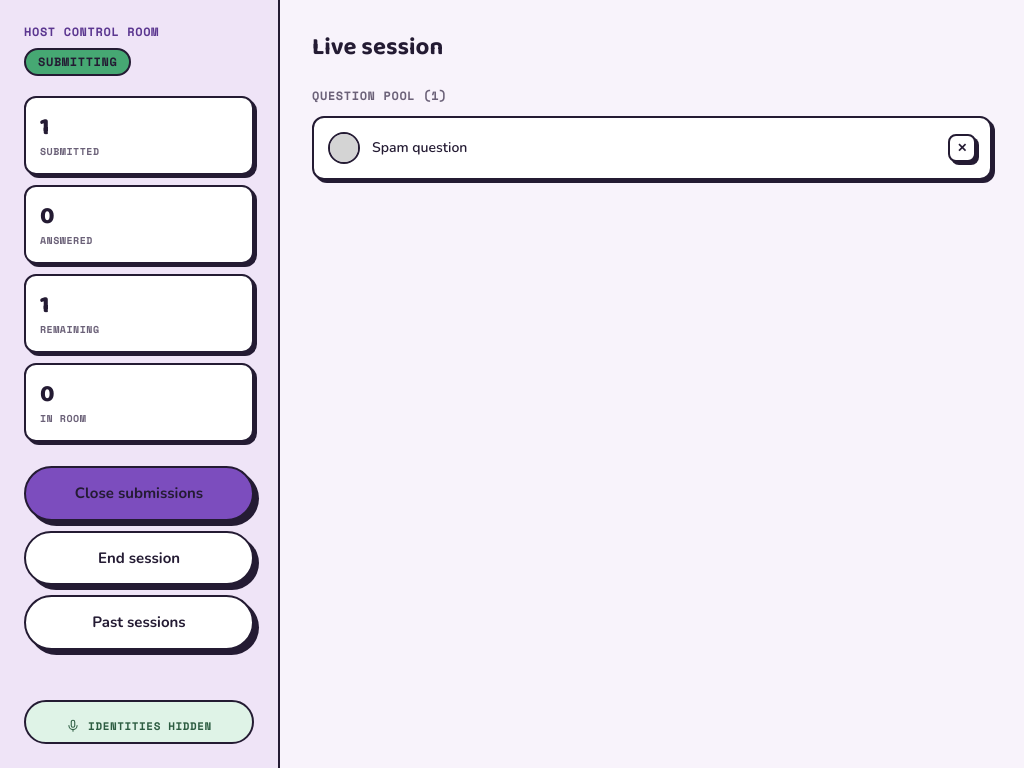
Scenario: HostControlView question moderation › shows an inline confirm before deleting and does not delete on the first click
Click the button named "Remove question".
click(962, 148)  # box [948,134,976,162]
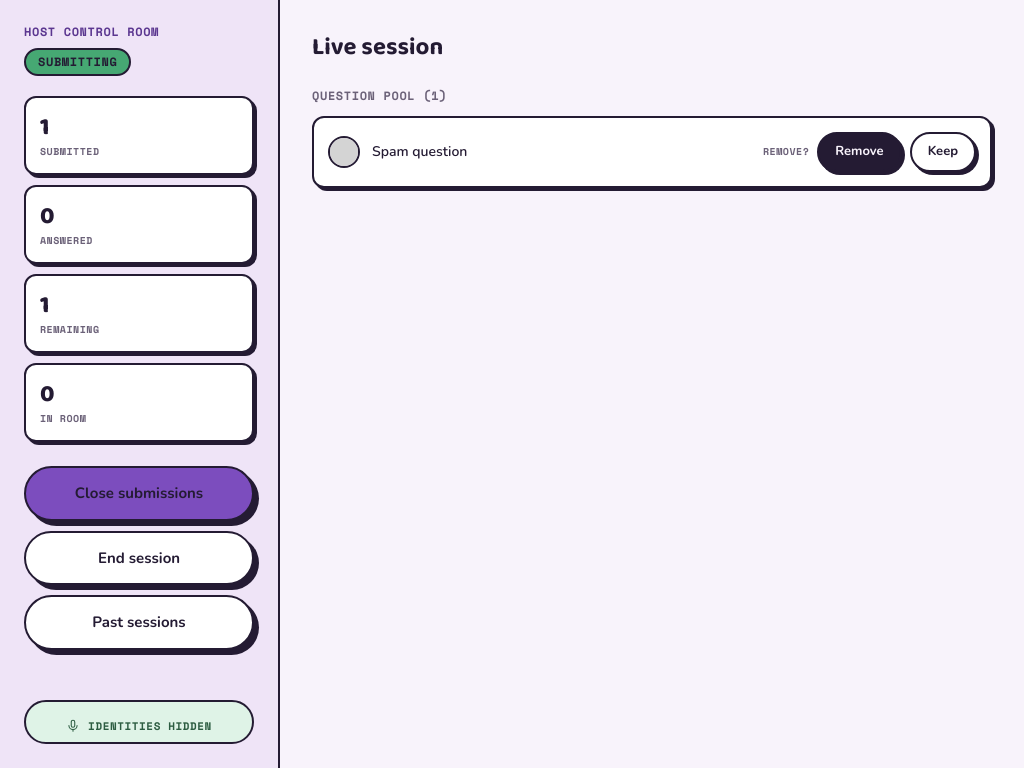
Expected: the text "Spam question" is shown, [372,142,467,161]
Result: the button "Remove" is shown at [817,132,902,172]
Result: the button "Keep" is shown at [910,132,976,172]
